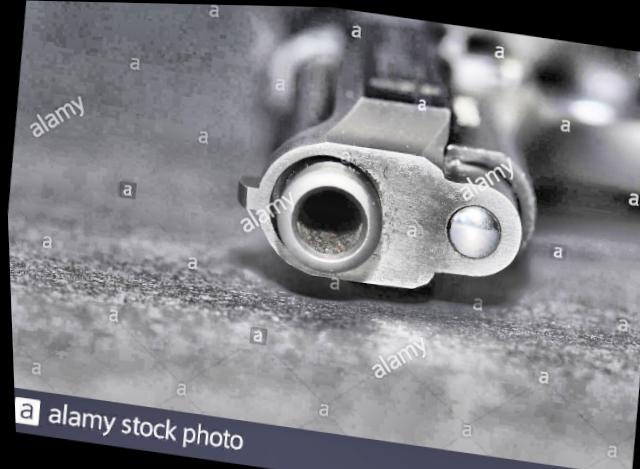pistol: (220, 4, 635, 316)
